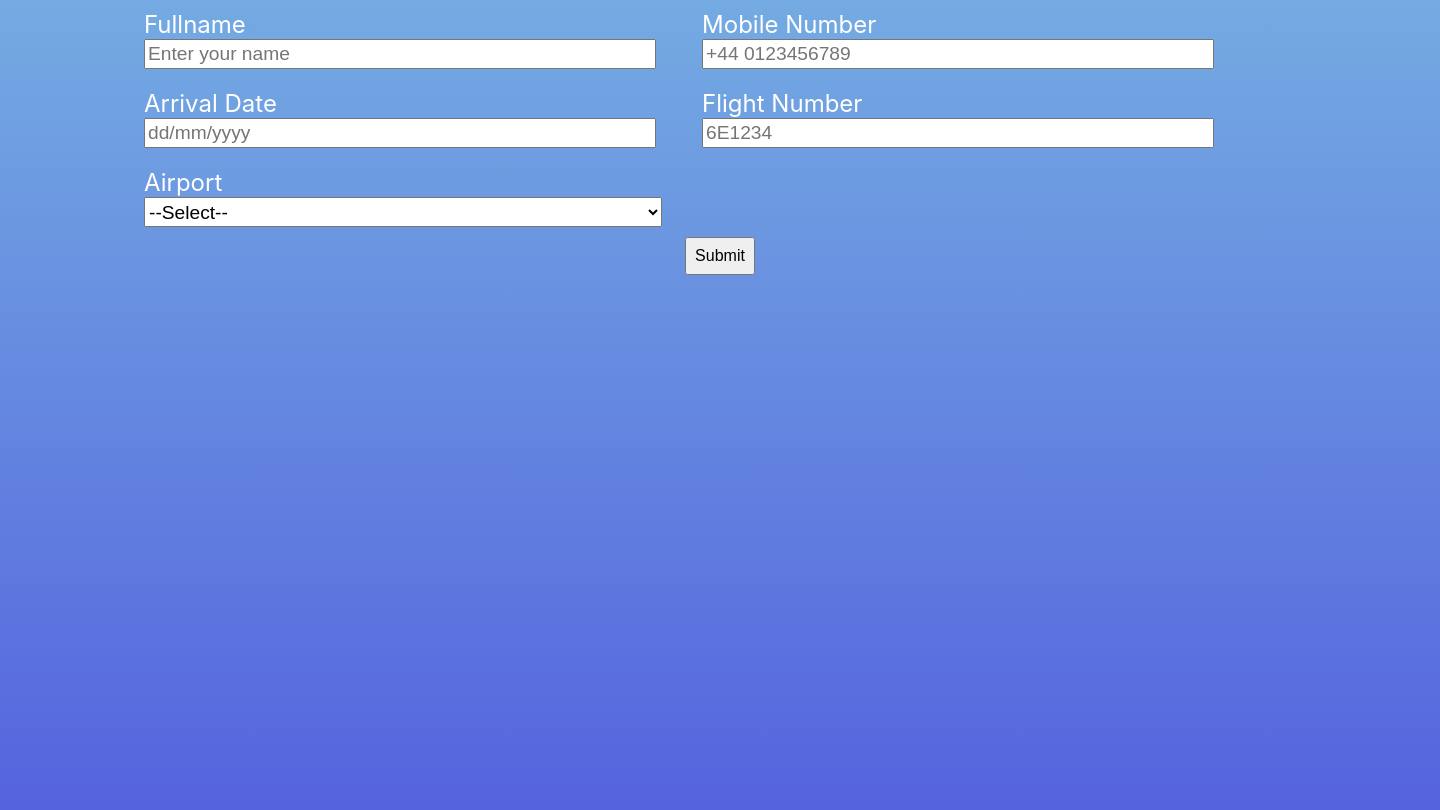
Test: should show error for invalid date
Type "21/21/21" into the field labelled "Arrival Date" at (400,133), box [144, 118, 656, 148]
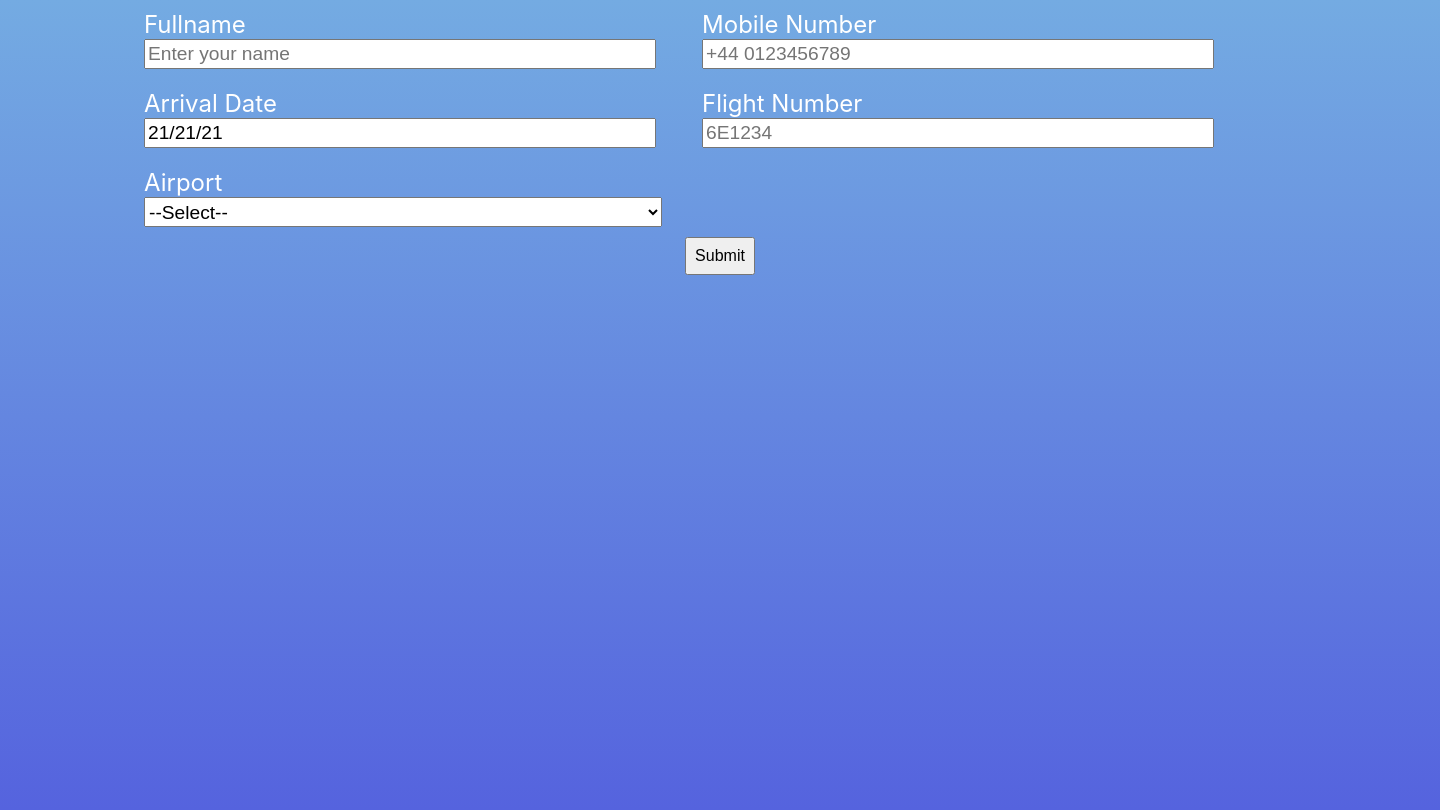
Click the button "Submit" at (720,256), box [685, 237, 755, 275]
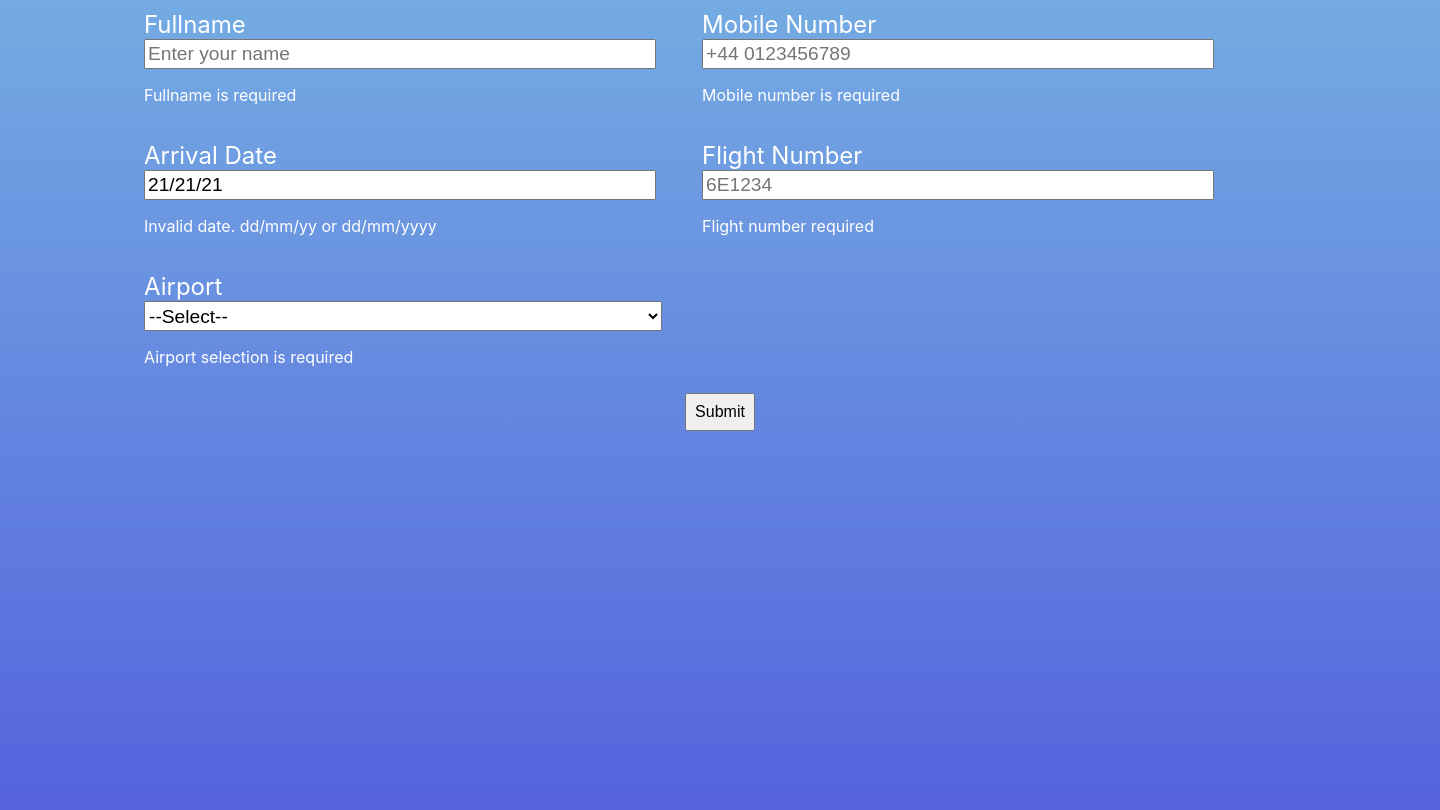
Result: the text "Invalid date. dd/mm/yy or dd/mm/yyyy" is shown at [144, 216, 437, 236]
